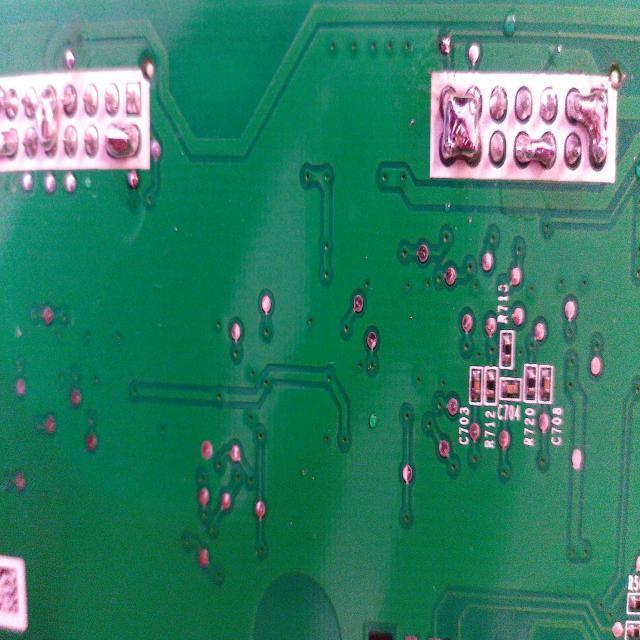Soldering shorted: (562, 80, 607, 168), (439, 86, 482, 174), (512, 125, 558, 172), (36, 91, 58, 153), (103, 124, 142, 156)
